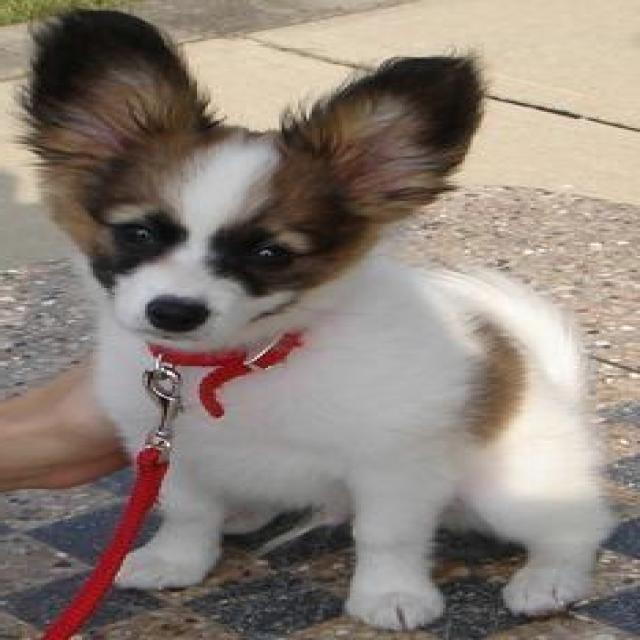papillon: (11, 0, 632, 636)
